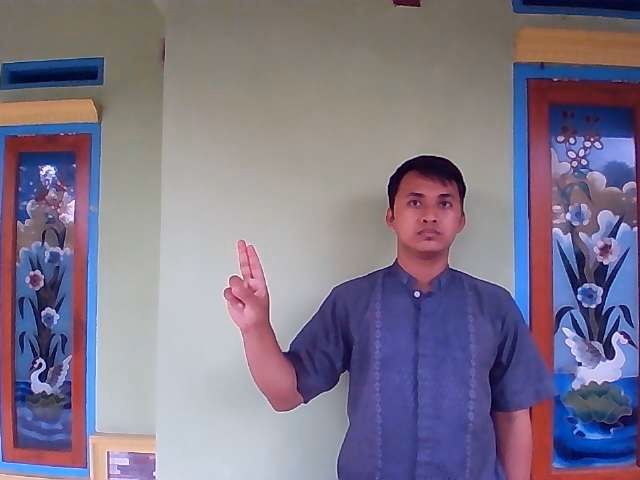U: (220, 239, 273, 339)
